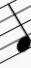note: (6, 3, 31, 55)
